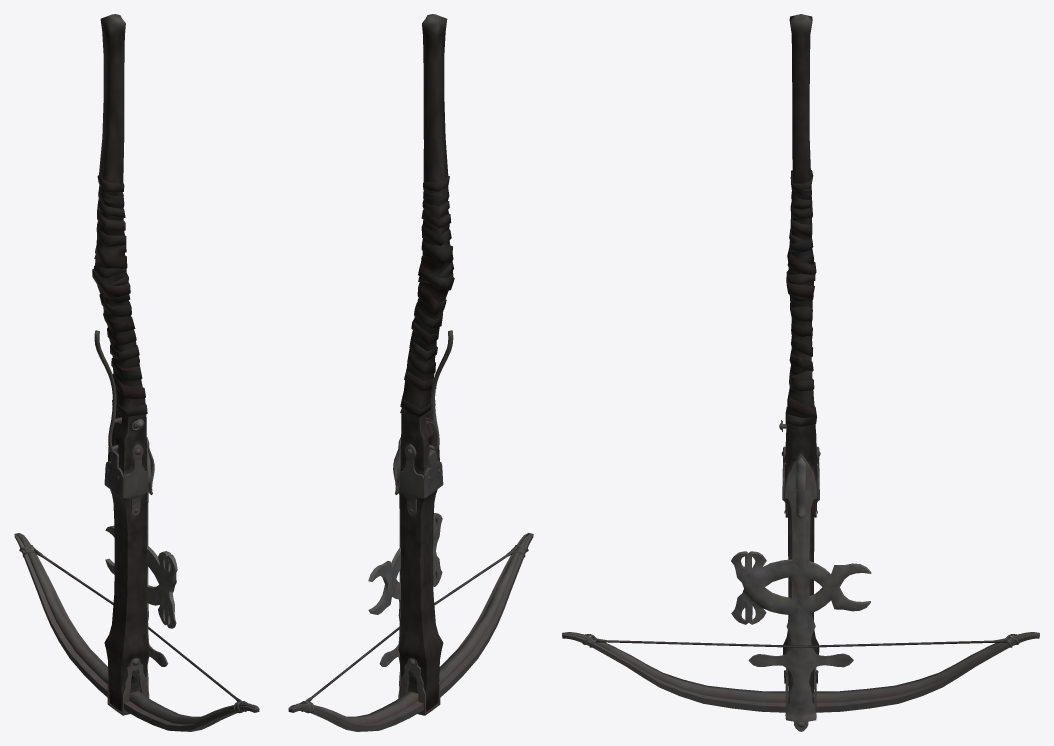
Rendered from weapon-wp_a_1514.glb.
The picture shows the model from 3 angles, left to right: view 1: azimuth 30°, elevation 25°; view 2: azimuth 150°, elevation 25°; view 3: azimuth 270°, elevation 25°; orthographic projection.
Parts seen in each view (by area): view 1: wp_a_1514_mesh; view 2: wp_a_1514_mesh; view 3: wp_a_1514_mesh.
Boxes of the visible parts, x1=… form: wp_a_1514_mesh: x1=14, y1=14, x2=259, y2=731; wp_a_1514_mesh: x1=288, y1=14, x2=533, y2=731; wp_a_1514_mesh: x1=562, y1=14, x2=1039, y2=731.
Bounding box in the file's own units: 0.1399 × 1.6 × 0.9842.
Materials: 1 (1 with a texture image).
